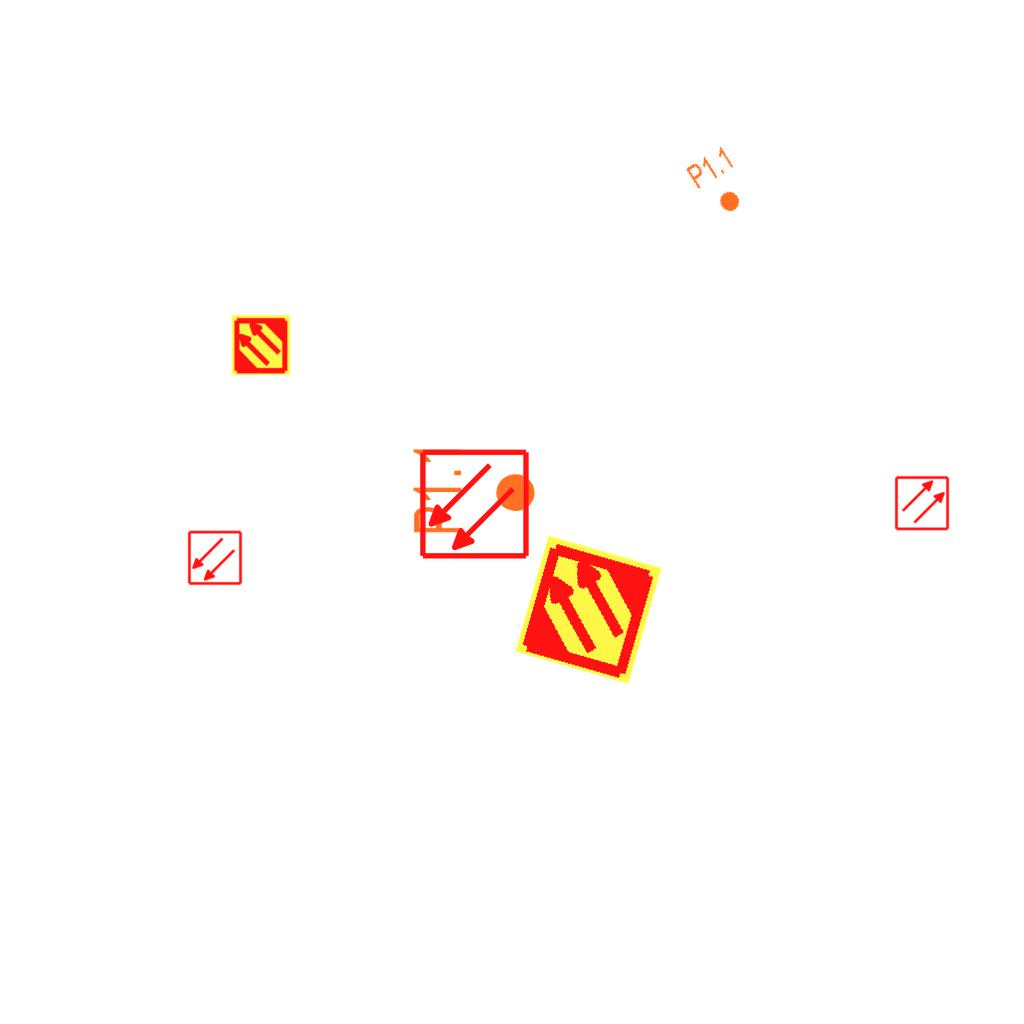ASR_Ansaugrauchmelder: (511, 532, 666, 687), (230, 314, 292, 376)
Downlight_LED_Einbauleuchten_Flur: (410, 443, 538, 536), (683, 143, 757, 223)
RMO_Rauchmelder_optischer: (418, 448, 531, 561), (894, 475, 950, 531), (187, 530, 243, 586)
